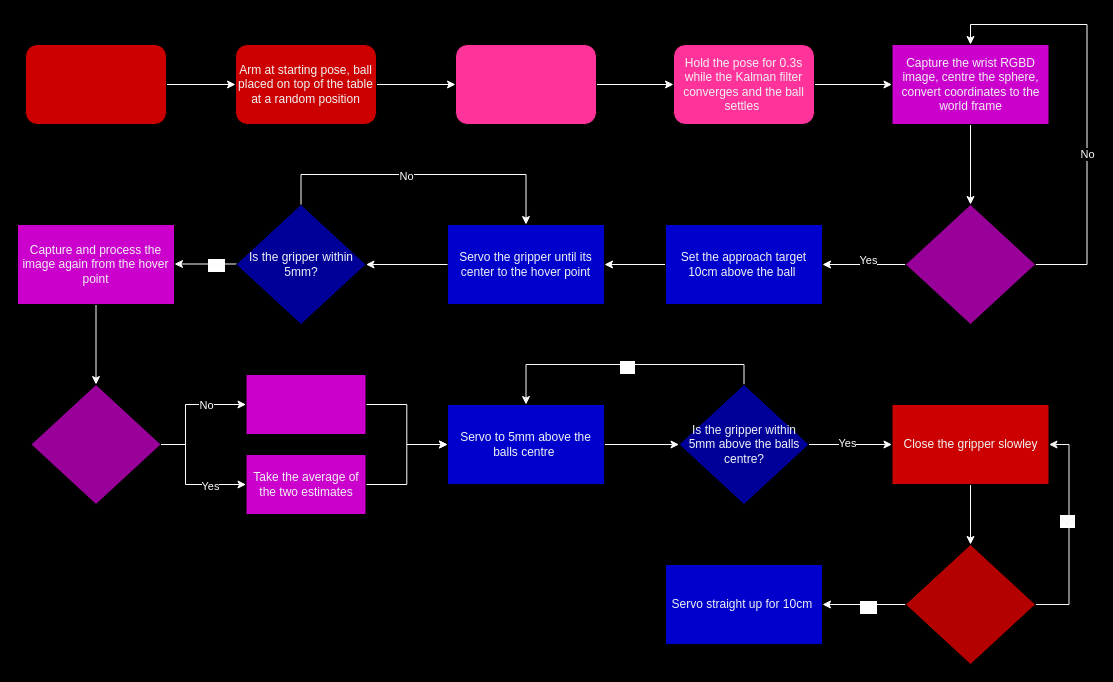
Some shapes in this 1113 by 682 pixel diagram are drawn without their labels. The box of each missing label's shape, as (x1, y1, x2, y2) in pixels:
Are the fingers touching?: (904, 544, 1036, 664)
Is the ball detected?: (904, 204, 1036, 324)
Is the whole ball in view and within 2cm of the first estimate: (30, 384, 161, 504)
Kalman filter initialised after the first encoder reading: (454, 44, 596, 124)
Keep the first estimate: (245, 374, 366, 434)
Load in UR3e, gripper, table and ball: (24, 44, 166, 124)
